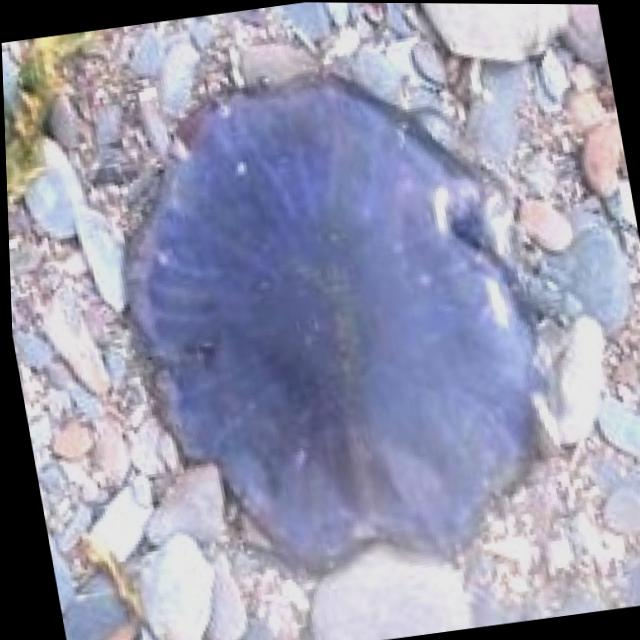Human: (81, 41, 577, 603)
Jellyfish: (0, 0, 640, 640)
